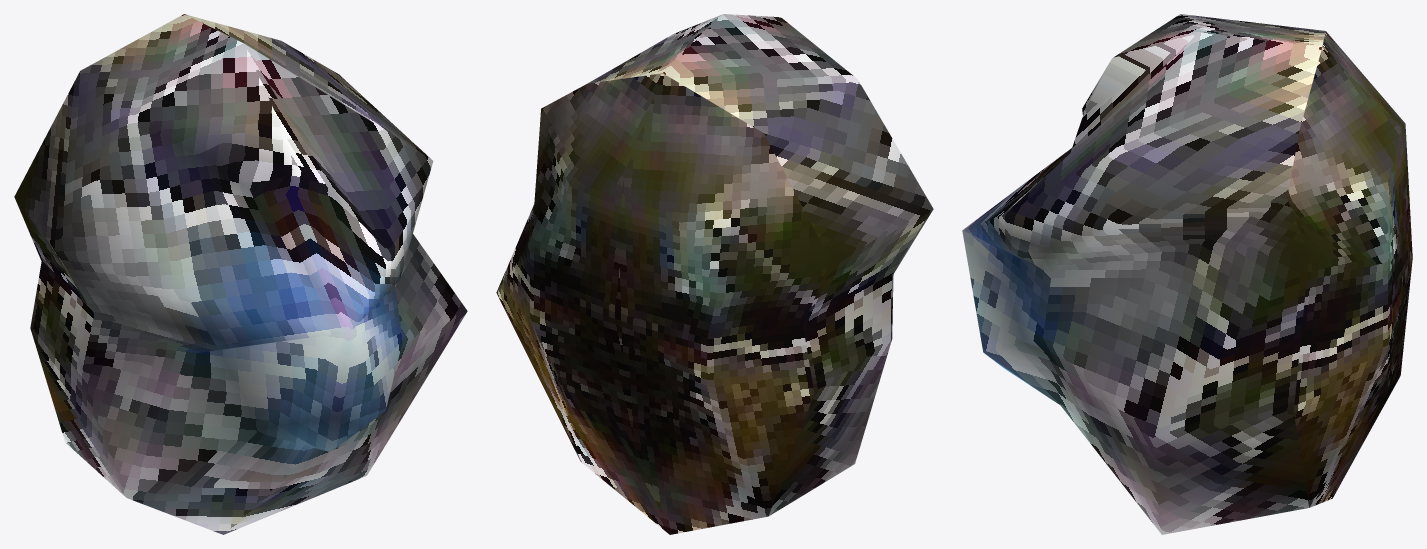
3 views of the same model, side by side, from view 1: azimuth 30°, elevation 25°; view 2: azimuth 150°, elevation 25°; view 3: azimuth 270°, elevation 25° (orthographic).
Visible parts, largest first — view 1: model_rs; view 2: model_rs; view 3: model_rs.
Boxes of the visible parts, bbox=[...] form: model_rs: bbox=[14, 14, 467, 534]; model_rs: bbox=[496, 14, 933, 534]; model_rs: bbox=[962, 14, 1412, 534].
Bounding box in the file's own units: 0.3091 × 0.3577 × 0.2981.
Materials: 1 (1 with a texture image).
